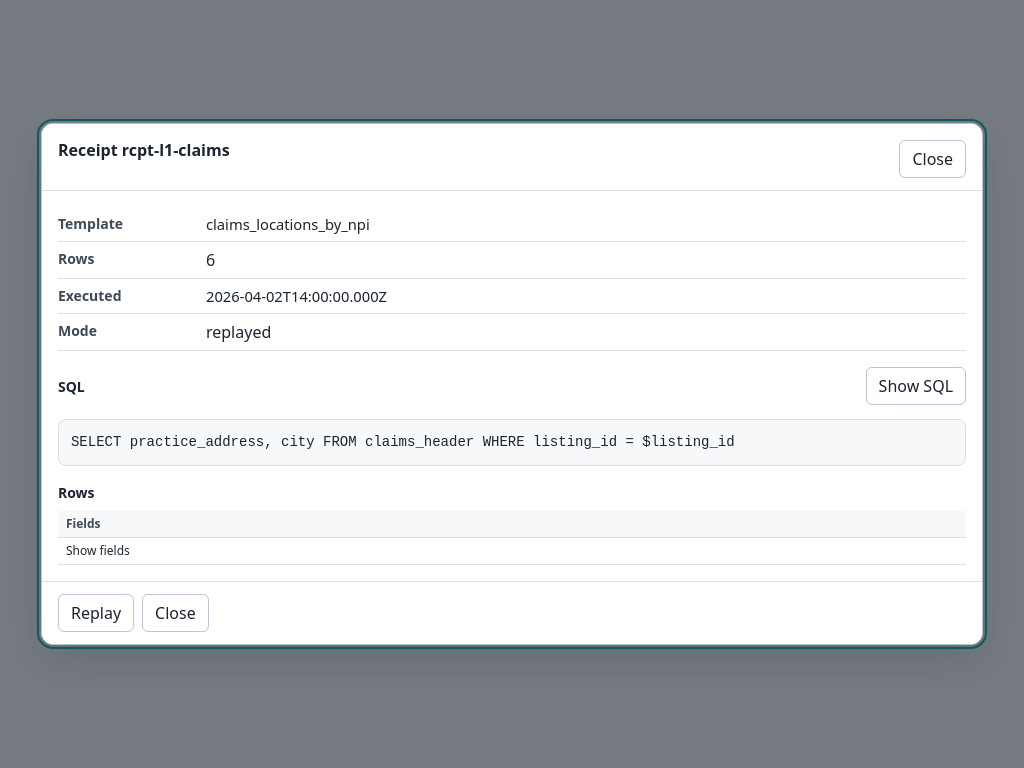
receipt panel › renders the SQL and preview rows
Expected: the text "SELECT practice_address, city FROM claims_header WHERE listing_id = $listing_id" is shown, top-left (58, 419), bottom-right (966, 466)
Expected: the text "400 Harbor Ave" is not shown
Click the row "Show fields".
click(512, 551)  # box top-left (58, 538), bottom-right (966, 565)
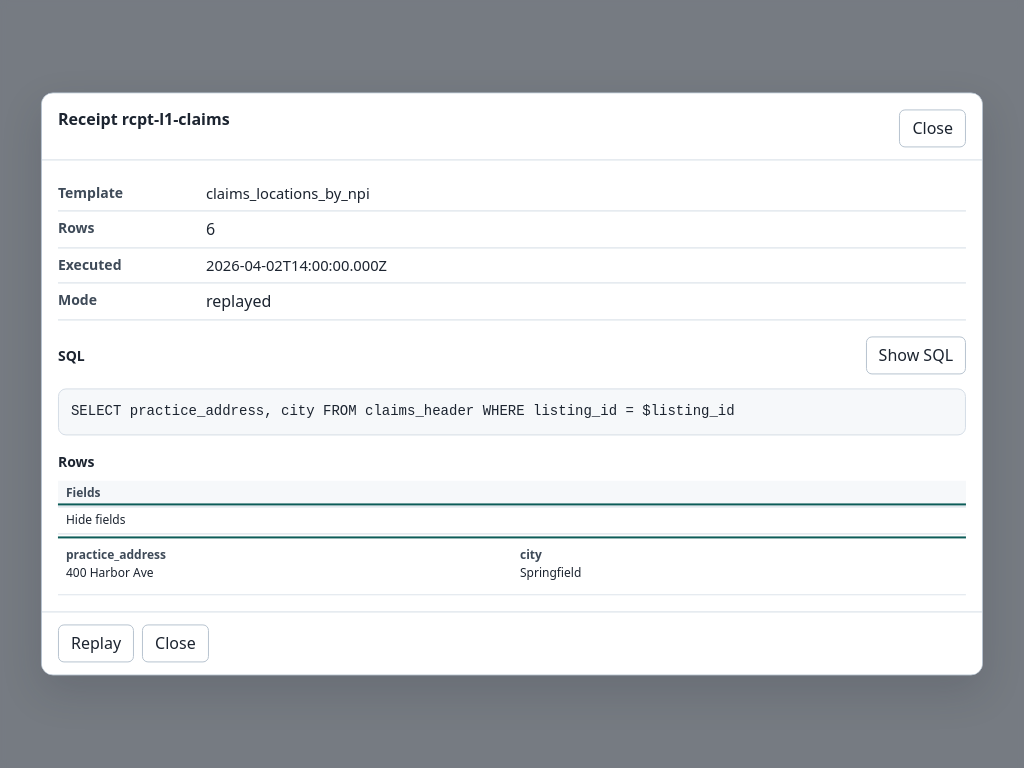
Expected: the button "Replay" is enabled, top-left (58, 625), bottom-right (134, 663)
Now the text "400 Harbor Ave" is shown, box top-left (66, 565), bottom-right (154, 582)
Now the text "Springfield" is shown, box top-left (520, 565), bottom-right (581, 582)
